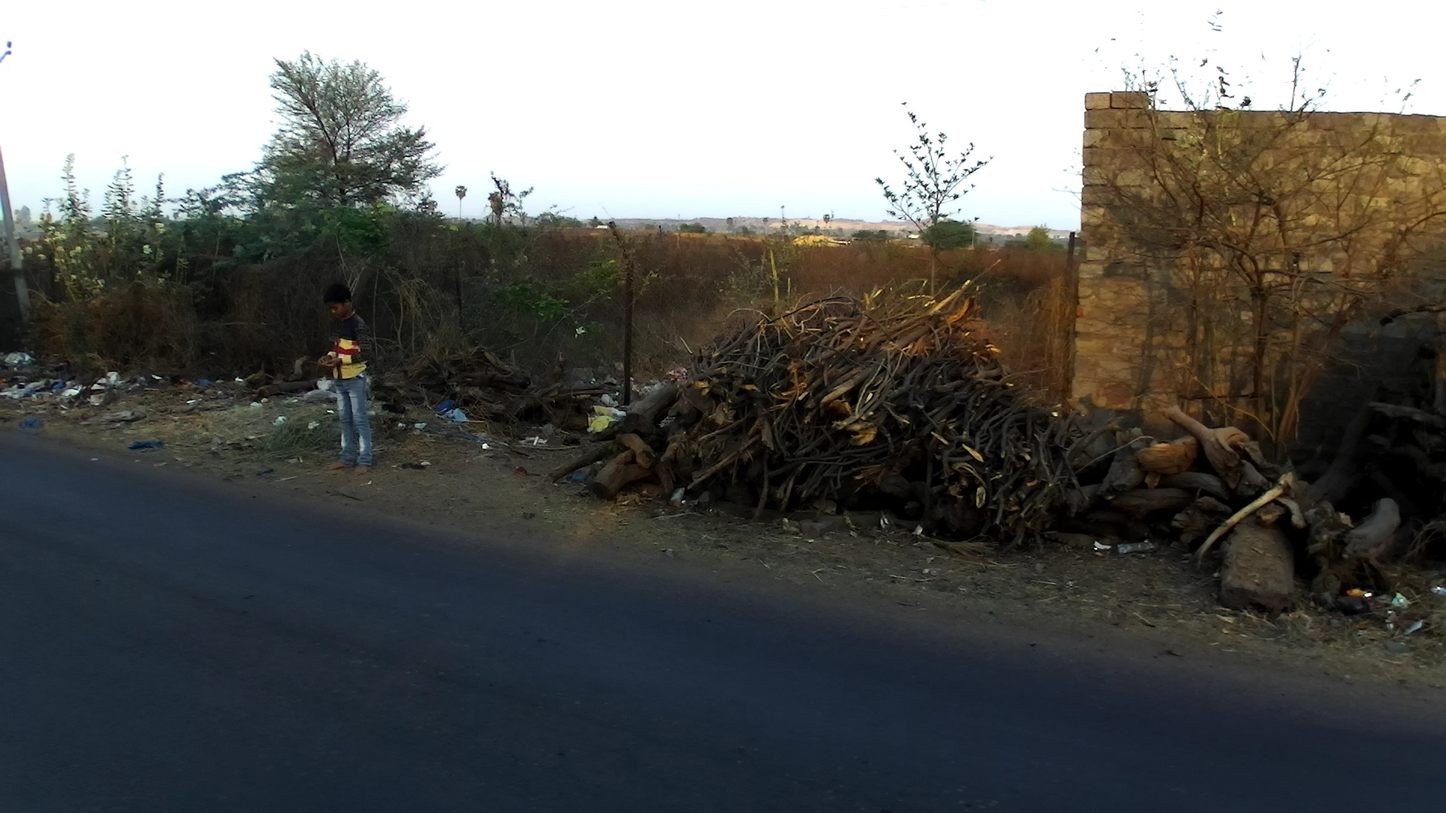person: (320, 285, 377, 474)
